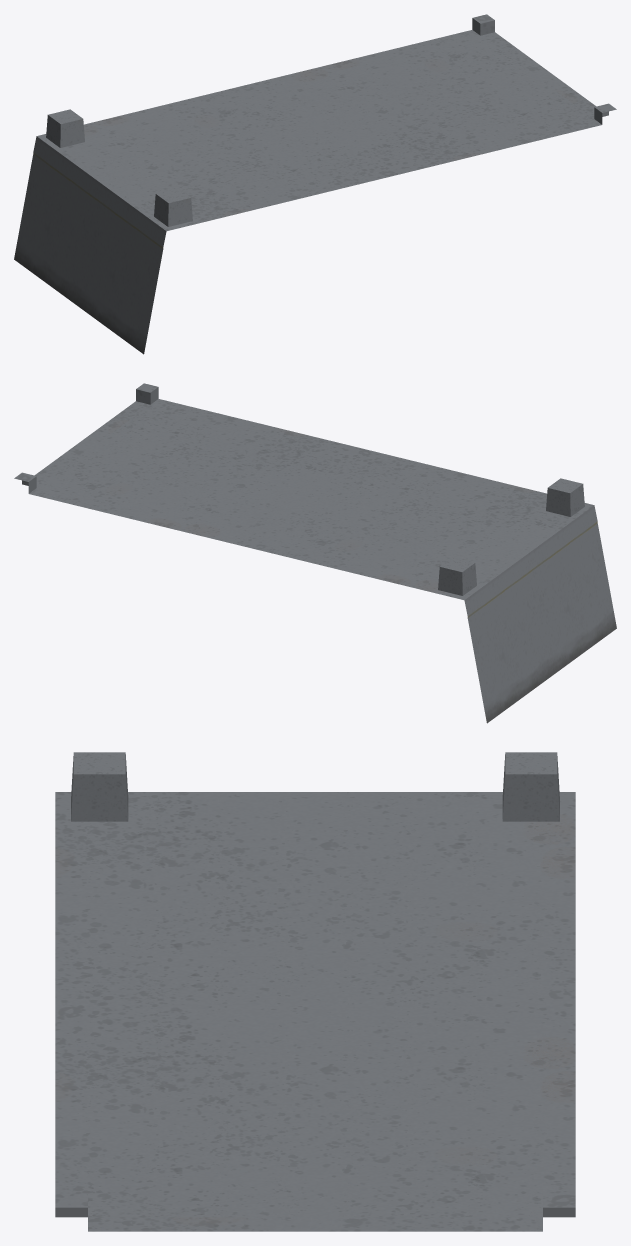
Rendered from spaceStation_sidewalk_b.fbx.
3 renders of one model, top to bottom at view 1: azimuth 30°, elevation 25°; view 2: azimuth 150°, elevation 25°; view 3: azimuth 270°, elevation 25°, orthographic. The views are drawn at different scales.
Parts seen in each view (by area): view 1: station_Sidewalk_Floor, station_Sidewalk_Wall; view 2: station_Sidewalk_Floor, station_Sidewalk_Wall; view 3: station_Sidewalk_Floor.
Part boxes in pixels (box(x1,y1,x2,y2)): station_Sidewalk_Floor: box(37, 14, 616, 231); station_Sidewalk_Wall: box(14, 136, 166, 354); station_Sidewalk_Floor: box(14, 383, 593, 600); station_Sidewalk_Wall: box(464, 505, 616, 723); station_Sidewalk_Floor: box(55, 752, 575, 1231).
Size of the model in its own units: 8.4 by 2.39 by 4.
Materials: 2 (2 with a texture image).
